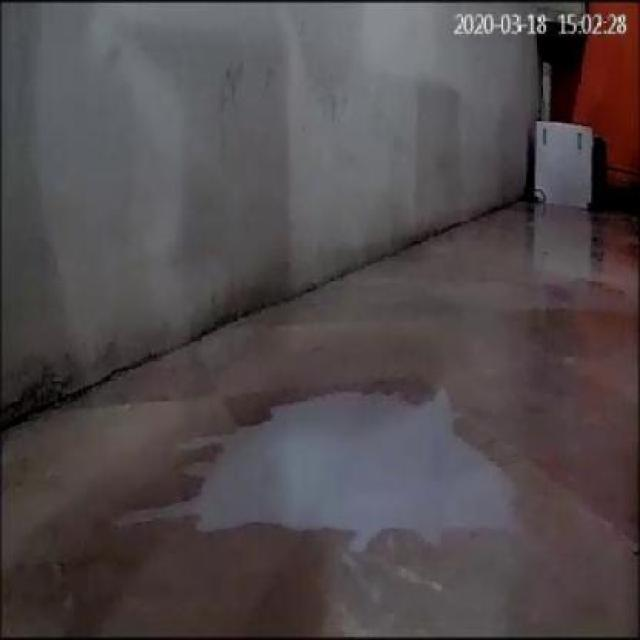spillage: (116, 380, 517, 547)
